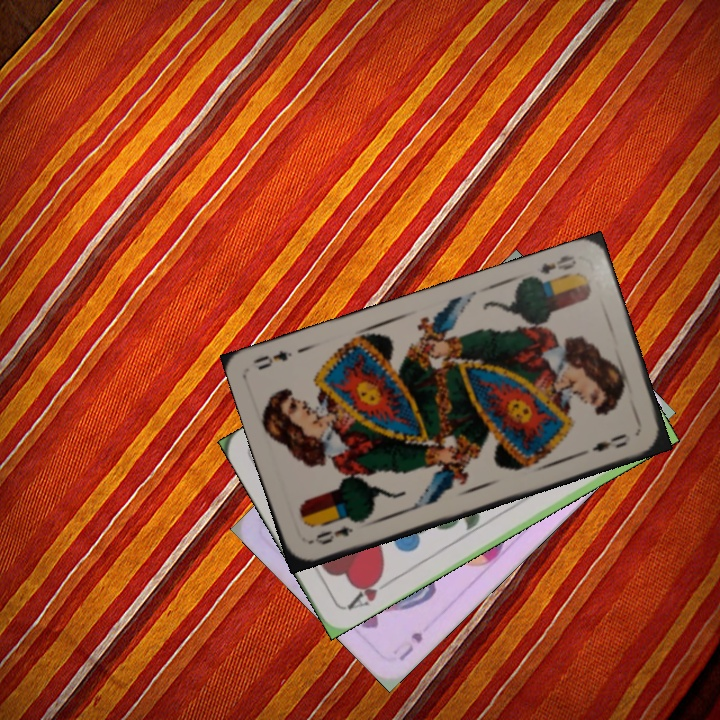EO: (307, 521, 356, 548), (536, 251, 579, 277)
HA: (342, 570, 395, 613)
SU: (395, 628, 426, 664)
